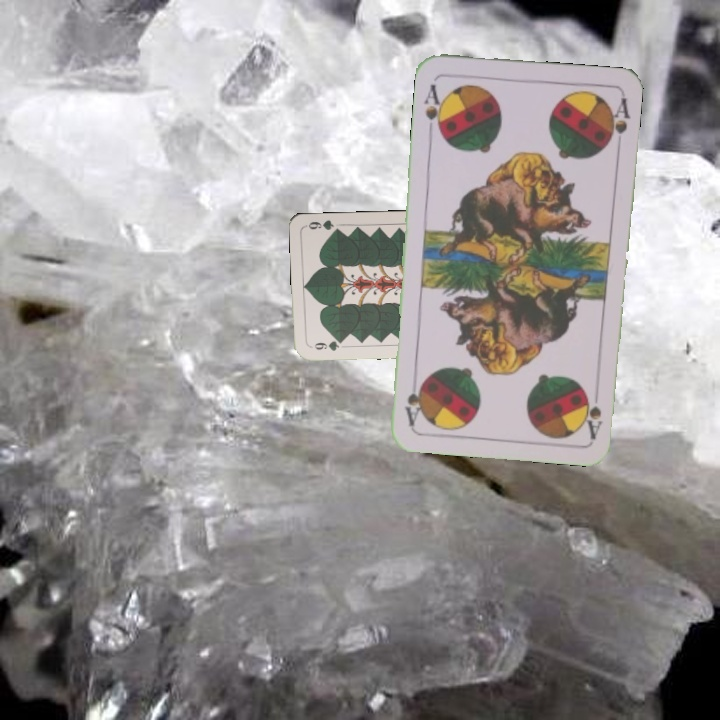G9: (310, 336, 346, 353)
SA: (420, 80, 447, 137), (581, 381, 605, 441)
